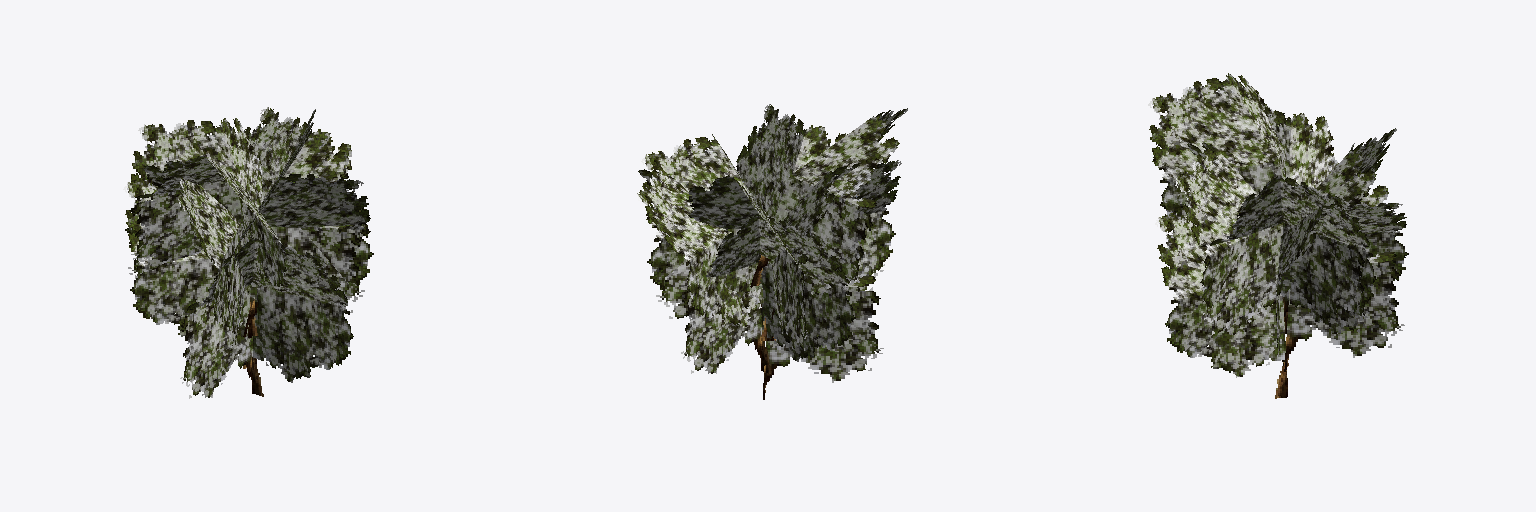
The picture shows the model from 3 angles: view 1: azimuth 30°, elevation 25°; view 2: azimuth 150°, elevation 25°; view 3: azimuth 270°, elevation 25°; orthographic projection.
Visible parts, largest first — view 1: mbushsno_0; view 2: mbushsno_0; view 3: mbushsno_0.
Boxes of the visible parts, x1=… form: mbushsno_0: x1=123, y1=107, x2=373, y2=398; mbushsno_0: x1=637, y1=104, x2=907, y2=399; mbushsno_0: x1=1148, y1=73, x2=1408, y2=398.
Bounding box in the file's own units: 4.33 × 3.79 × 3.76.
1 materials, 1 textured.